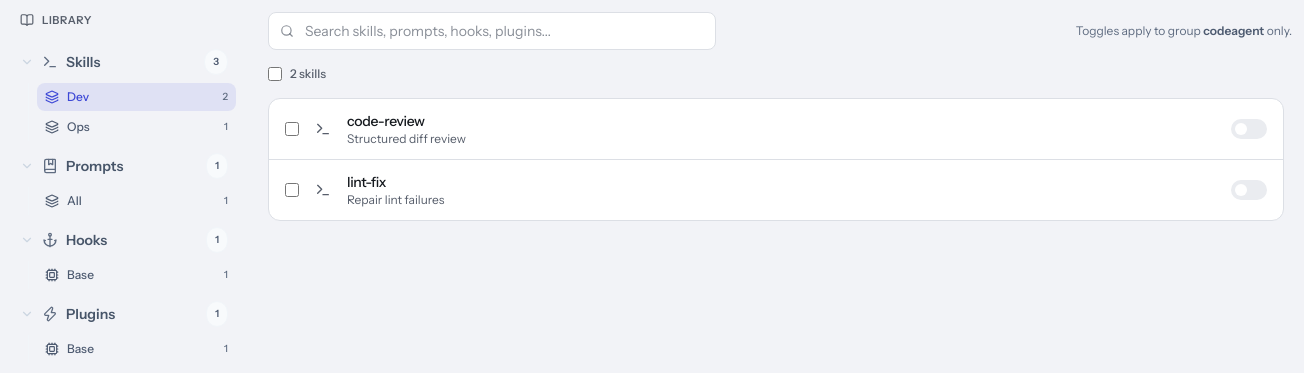
Test: ResourceHub engine marks › a hollow dot names the engine that does not take the kind
Check: the heading "code-review" is shown, box 347,111 -> 425,131
In the field named "Search all resources": (492, 31) 268,12 -> 716,50, type "lint-on"
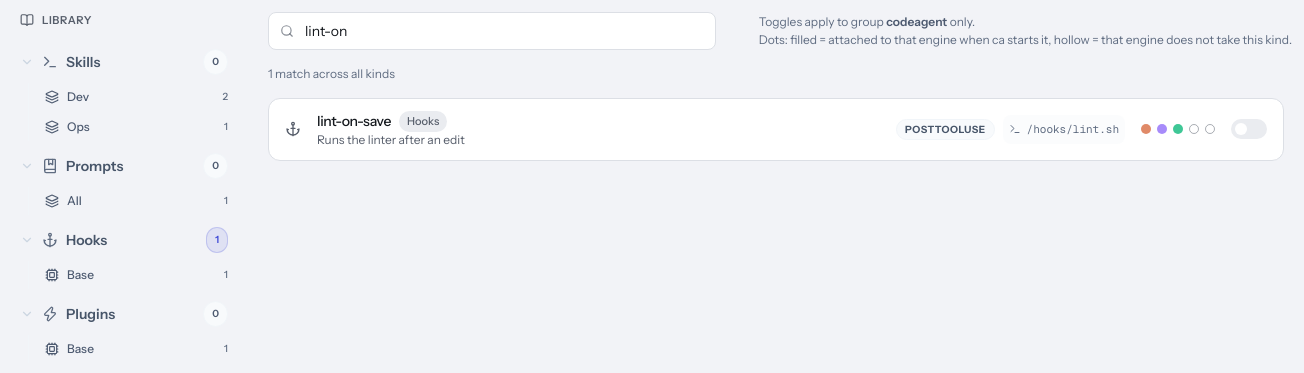
Check: the picture named "Attached to" is shown, box 1141,124 -> 1215,134
Check: the element titled "Antigravity does not take this kind" is shown, box 1205,124 -> 1215,134
